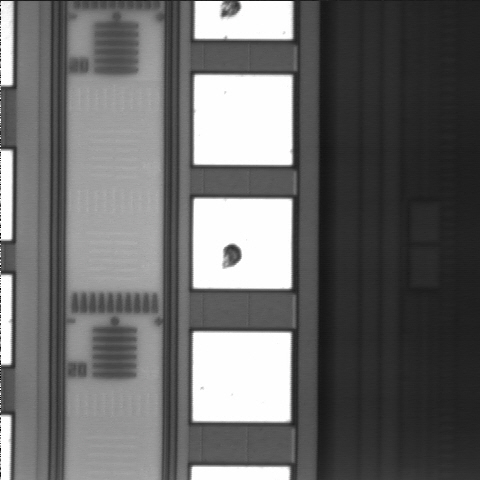pad: (193, 199, 292, 289), (194, 75, 292, 165), (193, 332, 291, 422)
